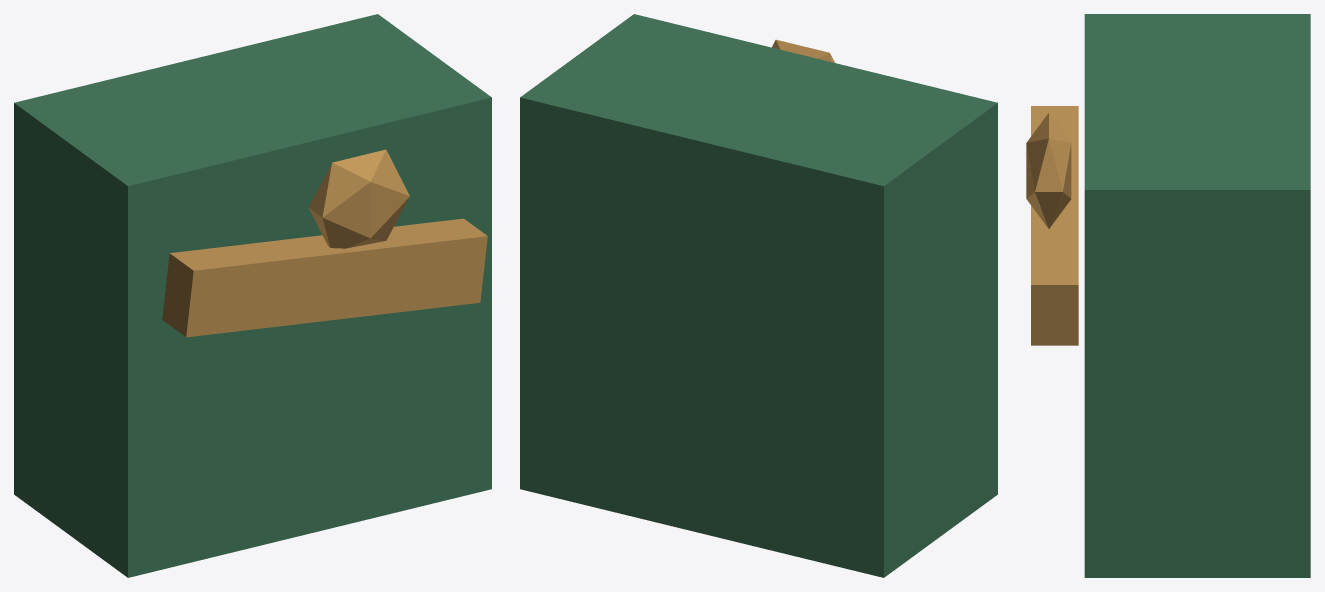
Rendered from carpenter_outfit.glb.
3 views of the same model, side by side, from view 1: azimuth 30°, elevation 25°; view 2: azimuth 150°, elevation 25°; view 3: azimuth 270°, elevation 25° (orthographic).
Parts seen in each view (by area): view 1: outfit_torso, outfit_trim, outfit_badge; view 2: outfit_torso; view 3: outfit_torso, outfit_trim, outfit_badge.
Part boxes in pixels (x1=…): outfit_torso: x1=14, y1=14, x2=491, y2=577; outfit_trim: x1=162, y1=218, x2=487, y2=337; outfit_badge: x1=308, y1=149, x2=409, y2=248; outfit_torso: x1=520, y1=14, x2=997, y2=577; outfit_torso: x1=1084, y1=14, x2=1310, y2=577; outfit_trim: x1=1031, y1=106, x2=1078, y2=345; outfit_badge: x1=1026, y1=113, x2=1071, y2=228.
Size of the model in its own units: 0.7 by 0.72 by 0.4779.
